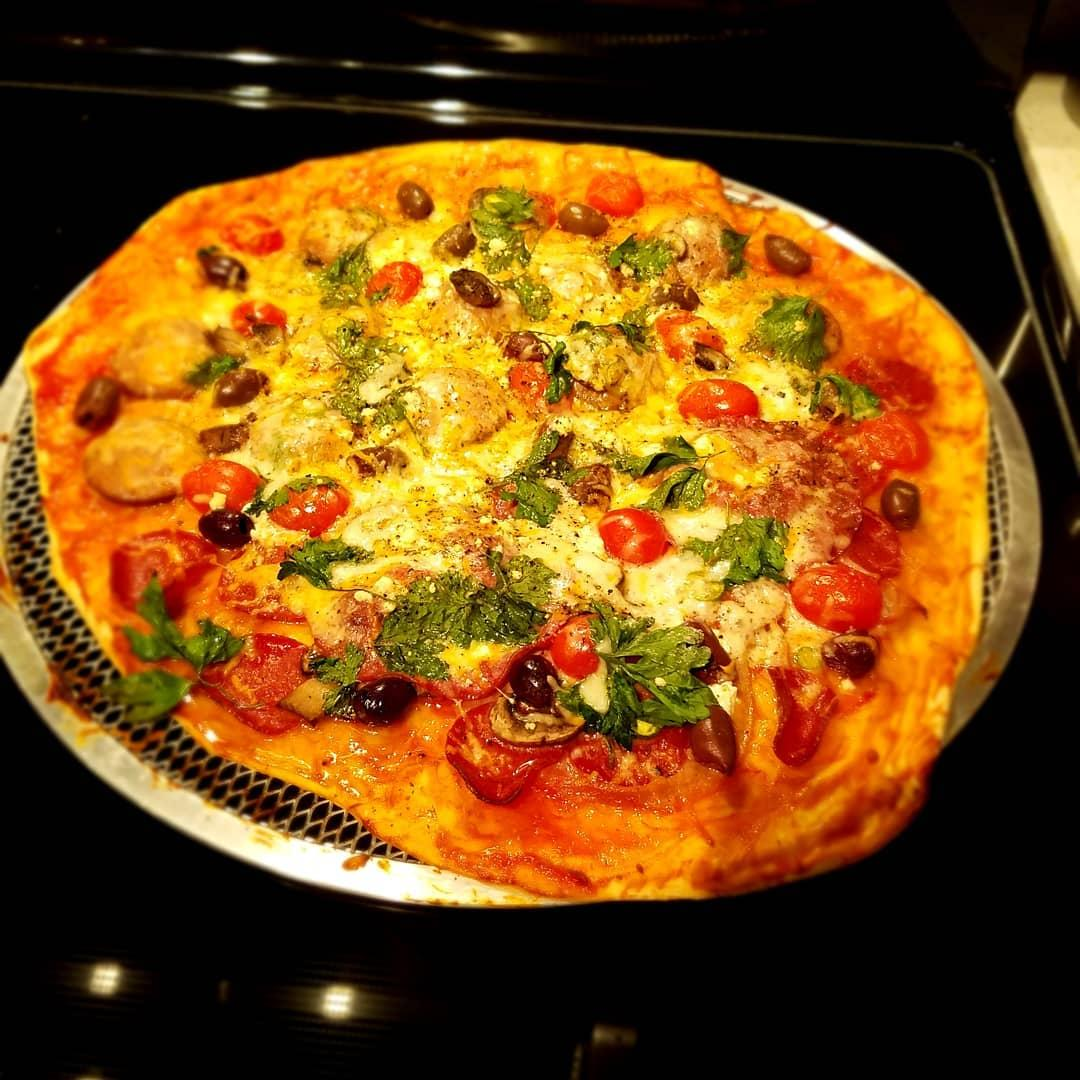Arugula: (397, 577, 539, 638), (615, 628, 704, 718), (715, 522, 779, 579)
Mushroom: (661, 211, 739, 281), (488, 702, 588, 746)
Olives: (353, 676, 417, 718), (880, 477, 923, 532), (75, 376, 117, 432), (200, 508, 255, 549), (214, 367, 269, 408), (763, 233, 812, 278), (450, 267, 502, 308), (511, 655, 554, 702), (492, 327, 550, 361), (430, 224, 476, 264), (558, 202, 609, 237), (201, 256, 250, 290), (397, 180, 434, 224), (649, 282, 701, 310), (467, 187, 501, 215)
Pepperoni: (445, 705, 564, 808), (205, 630, 315, 737), (107, 527, 221, 618), (564, 726, 692, 788), (845, 352, 940, 410)
Pizza: (0, 137, 1080, 890)
Tomatoes: (790, 563, 885, 635), (856, 411, 930, 472), (271, 476, 346, 531), (679, 379, 761, 428), (602, 506, 671, 561), (186, 458, 261, 508), (586, 168, 646, 218), (661, 310, 723, 356), (554, 612, 602, 671), (364, 260, 421, 304), (228, 213, 285, 256), (232, 303, 289, 339), (509, 361, 559, 401)
